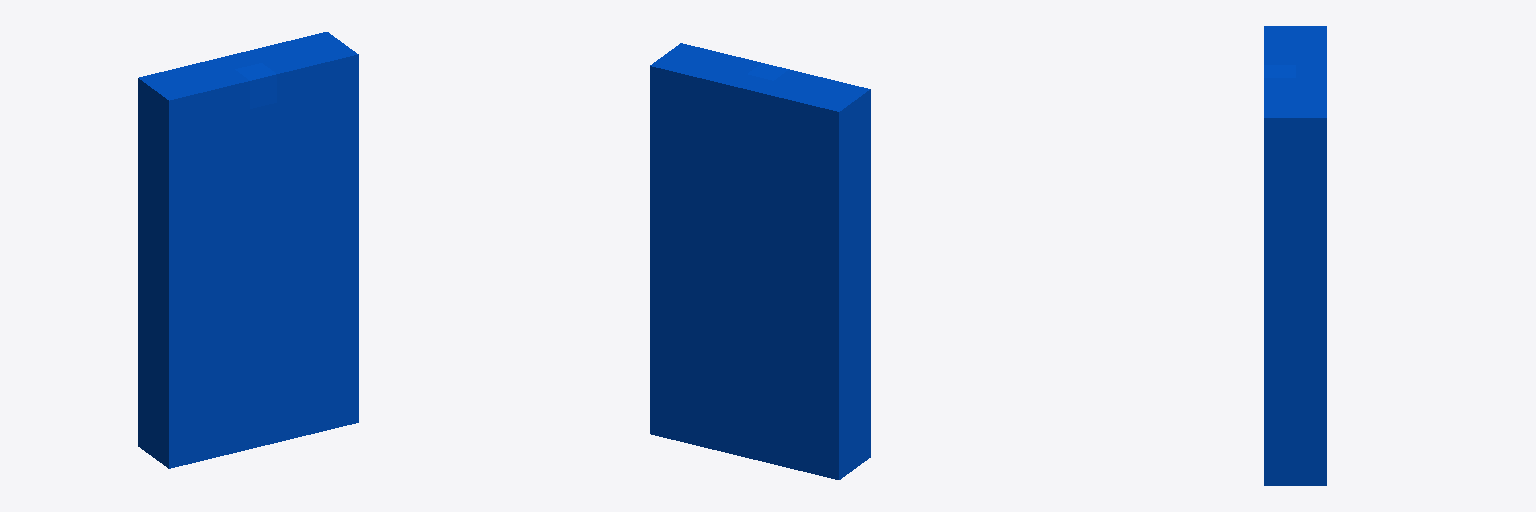
3 views of the same model, side by side, from view 1: azimuth 30°, elevation 25°; view 2: azimuth 150°, elevation 25°; view 3: azimuth 270°, elevation 25° (orthographic).
Size of the model in its own units: 7 by 13 by 3.
1 materials, 1 textured.